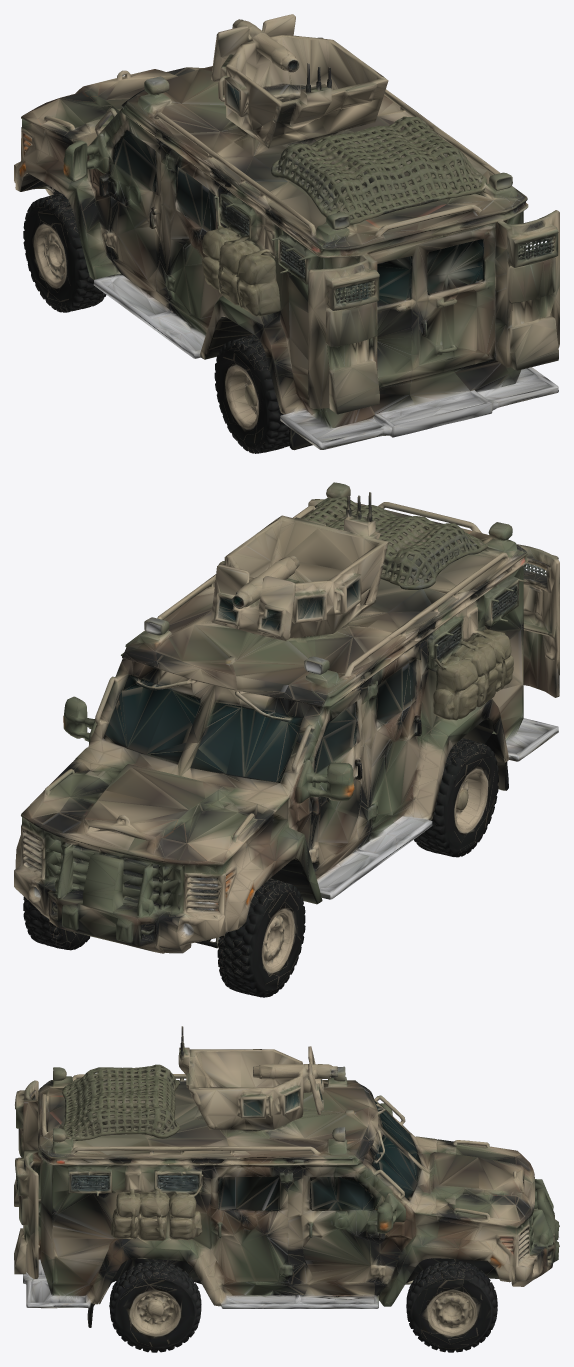
File: armored_car_025.glb
3 renders of one model, top to bottom at view 1: azimuth 30°, elevation 25°; view 2: azimuth 150°, elevation 25°; view 3: azimuth 270°, elevation 25°, orthographic. The views are drawn at different scales.
Parts seen in each view (by area): view 1: Armored body, Wheel_FL, Wheel_RL; view 2: Armored body, Wheel_FL, Wheel_RL, Wheel_FR; view 3: Armored body, Wheel_RR, Wheel_FR.
Boxes of the visible parts, x1,y1,x2,y2 form: Armored body: (14,14,559,450); Wheel_FL: (23,193,102,312); Wheel_RL: (214,334,289,453); Armored body: (14,482,559,991); Wheel_FL: (222,878,305,997); Wheel_RL: (418,734,505,857); Wheel_FR: (23,896,65,949); Armored body: (14,1026,559,1327); Wheel_RR: (98,1262,201,1352); Wheel_FR: (406,1262,497,1352).
Size of the model in its own units: 2.24 by 2.63 by 4.75.
1 material, 1 textured.
